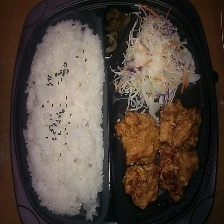rice: (23, 20, 103, 224)
